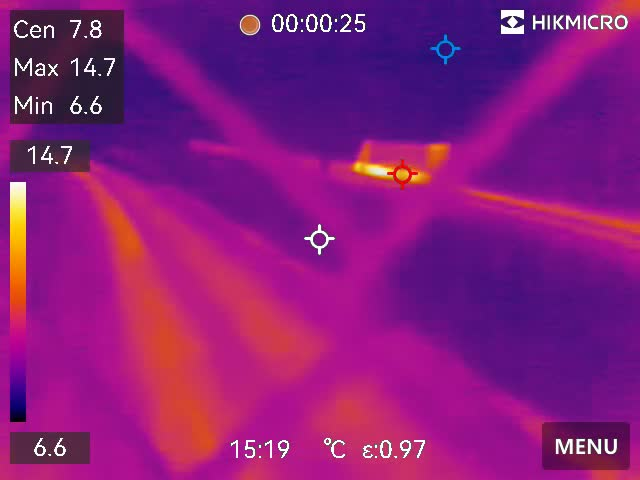heavyTruck: (352, 137, 450, 184)
